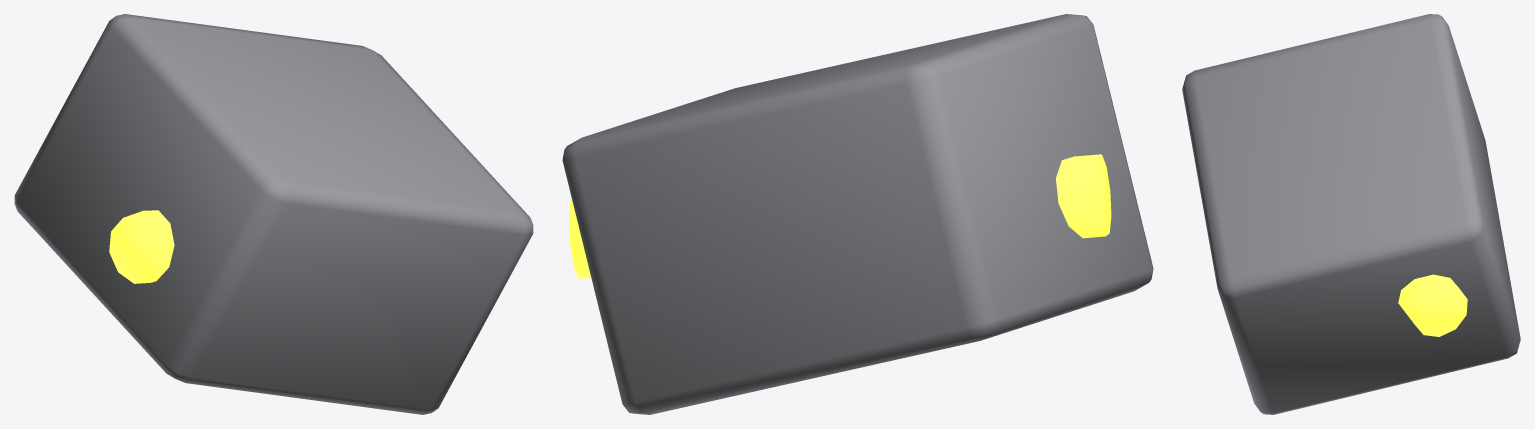
Rendered from SM_BadgerDebrisProjectile.fbx.
3 renders of one model, left to right at view 1: azimuth 30°, elevation 25°; view 2: azimuth 150°, elevation 25°; view 3: azimuth 270°, elevation 25°, orthographic. The views are drawn at different scales.
Parts seen in each view (by area): view 1: SM_BadgerDebrisProjectile; view 2: SM_BadgerDebrisProjectile; view 3: SM_BadgerDebrisProjectile.
Part boxes in pixels (bbox=[...]): SM_BadgerDebrisProjectile: bbox=[14, 14, 533, 414]; SM_BadgerDebrisProjectile: bbox=[562, 14, 1153, 414]; SM_BadgerDebrisProjectile: bbox=[1182, 14, 1520, 414].
Size of the model in its own units: 0.6263 by 0.5789 by 0.5669.
